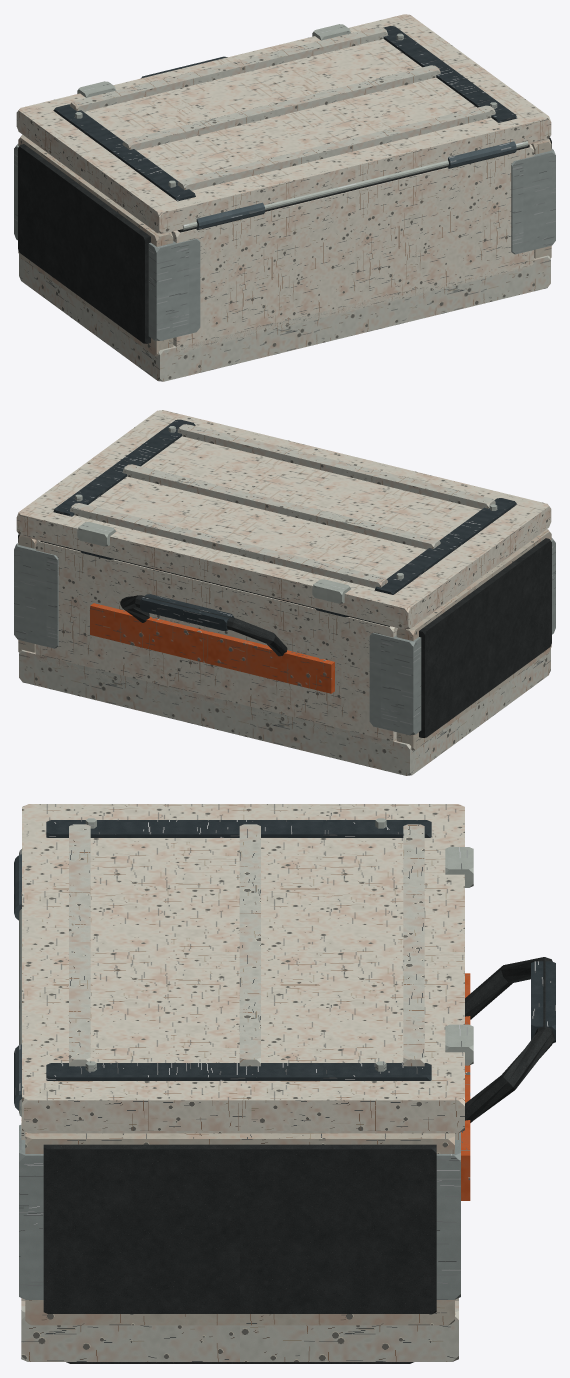
The model's file is effects_case.glb.
3 renders of one model, top to bottom at view 1: azimuth 30°, elevation 25°; view 2: azimuth 150°, elevation 25°; view 3: azimuth 270°, elevation 25°, orthographic. The views are drawn at different scales.
Parts seen in each view (by area): view 1: case_lid_white_painted, case_wall_Back_white_painted, case_chassis_rover_white, case_rubber_bumper_L_black_rubber, storm_scraped_corner_2_alloy, protective_lid_rib_0_rover_white, protective_lid_rib_1_rover_white, protective_lid_rib_2_rover_white, storm_scraped_corner_3_alloy, lid_edge_impact_L_graphite, case_wall_L_warm_shell, lid_edge_impact_R_graphite (+4 smaller); view 2: case_lid_white_painted, case_wall_Front_white_painted, case_chassis_rover_white, case_rubber_bumper_L_black_rubber, crew_coloured_band_2_orange, storm_scraped_corner_0_alloy, protective_lid_rib_1_rover_white, protective_lid_rib_2_rover_white, protective_lid_rib_0_rover_white, storm_scraped_corner_1_alloy, lid_edge_impact_L_graphite, case_wall_L_warm_shell (+5 smaller); view 3: case_lid_white_painted, case_rubber_bumper_R_black_rubber, case_chassis_rover_white, case_wall_R_warm_shell, lid_edge_impact_R_graphite, lid_edge_impact_L_graphite, protective_lid_rib_2_rover_white, protective_lid_rib_1_rover_white, protective_lid_rib_0_rover_white, padded_carry_handle_black_rubber, storm_scraped_corner_3_alloy, storm_scraped_corner_1_alloy (+5 smaller).
Part boxes in pixels (x1=…): case_lid_white_painted: x1=16, y1=14, x2=551, y2=233; case_wall_Back_white_painted: x1=171, y1=144, x2=534, y2=352; case_chassis_rover_white: x1=19, y1=255, x2=550, y2=381; case_rubber_bumper_L_black_rubber: x1=18, y1=144, x2=150, y2=343; storm_scraped_corner_2_alloy: x1=148, y1=238, x2=200, y2=340; protective_lid_rib_0_rover_white: x1=177, y1=105, x2=495, y2=190; protective_lid_rib_1_rover_white: x1=122, y1=65, x2=440, y2=150; protective_lid_rib_2_rover_white: x1=70, y1=26, x2=387, y2=111; storm_scraped_corner_3_alloy: x1=511, y1=149, x2=555, y2=254; lid_edge_impact_L_graphite: x1=53, y1=104, x2=195, y2=201; case_wall_L_warm_shell: x1=18, y1=135, x2=173, y2=356; lid_edge_impact_R_graphite: x1=383, y1=26, x2=517, y2=122; case_lid_white_painted: x1=16, y1=410, x2=551, y2=629; case_wall_Front_white_painted: x1=35, y1=540, x2=397, y2=746; case_chassis_rover_white: x1=19, y1=649, x2=550, y2=775; case_rubber_bumper_L_black_rubber: x1=419, y1=538, x2=551, y2=737; crew_coloured_band_2_orange: x1=90, y1=603, x2=334, y2=693; storm_scraped_corner_0_alloy: x1=369, y1=632, x2=421, y2=735; protective_lid_rib_1_rover_white: x1=122, y1=464, x2=440, y2=549; protective_lid_rib_2_rover_white: x1=70, y1=503, x2=387, y2=588; protective_lid_rib_0_rover_white: x1=177, y1=424, x2=495, y2=509; storm_scraped_corner_1_alloy: x1=14, y1=543, x2=58, y2=648; lid_edge_impact_L_graphite: x1=374, y1=498, x2=517, y2=594; case_wall_L_warm_shell: x1=396, y1=529, x2=551, y2=750; case_lid_white_painted: x1=22, y1=804, x2=464, y2=1133; case_rubber_bumper_R_black_rubber: x1=43, y1=1144, x2=436, y2=1313; case_chassis_rover_white: x1=21, y1=1301, x2=458, y2=1361; case_wall_R_warm_shell: x1=25, y1=1132, x2=454, y2=1325; lid_edge_impact_R_graphite: x1=46, y1=1063, x2=431, y2=1080; lid_edge_impact_L_graphite: x1=46, y1=820, x2=431, y2=837; protective_lid_rib_2_rover_white: x1=403, y1=824, x2=424, y2=1066; protective_lid_rib_1_rover_white: x1=239, y1=824, x2=260, y2=1066; protective_lid_rib_0_rover_white: x1=69, y1=824, x2=90, y2=1066; padded_carry_handle_black_rubber: x1=465, y1=957, x2=554, y2=1122; storm_scraped_corner_3_alloy: x1=19, y1=1125, x2=43, y2=1299; storm_scraped_corner_1_alloy: x1=436, y1=1132, x2=460, y2=1299.
Bounding box in the file's own units: 0.641 × 0.284 × 0.477.
Materials: 12 (12 with a texture image).
